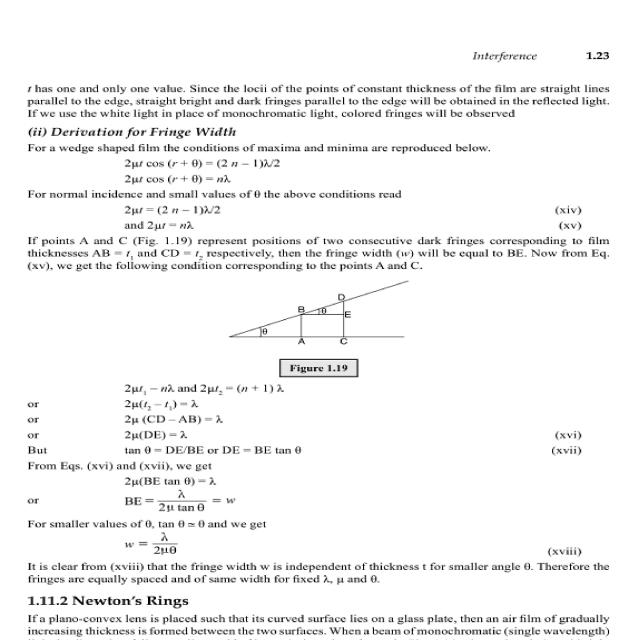diagram: (154, 273, 501, 384)
